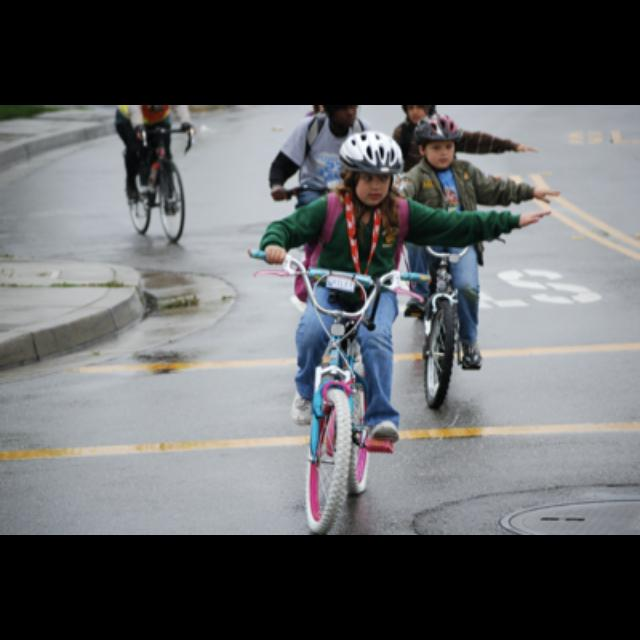With Helmet: (328, 125, 408, 208), (413, 111, 469, 170)
